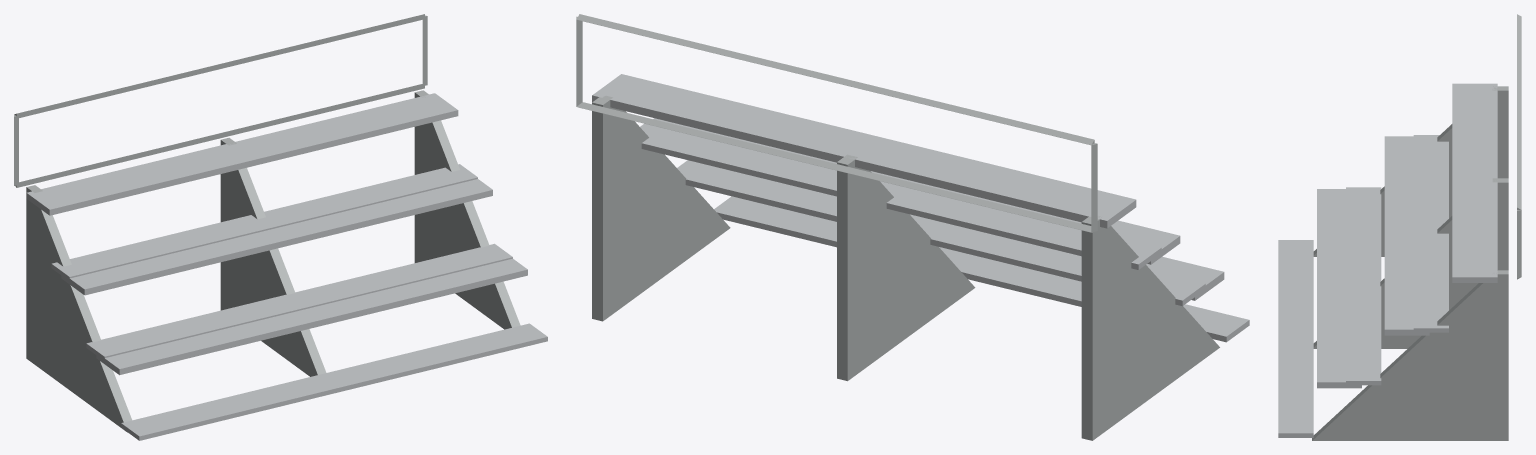
Rendered from bleachers.glb.
The picture shows the model from 3 angles, left to right: view 1: azimuth 30°, elevation 25°; view 2: azimuth 150°, elevation 25°; view 3: azimuth 270°, elevation 25°; orthographic projection. The views are drawn at different scales.
Visible parts, largest first — view 1: bleachers; view 2: bleachers; view 3: bleachers.
Part boxes in pixels (left/top/right/bottom): bleachers: left=14, top=14, right=547, bottom=440; bleachers: left=576, top=14, right=1249, bottom=440; bleachers: left=1278, top=14, right=1521, bottom=440.
Size of the model in its own units: 2.87 by 1.62 by 1.51.
1 material, 1 textured.
